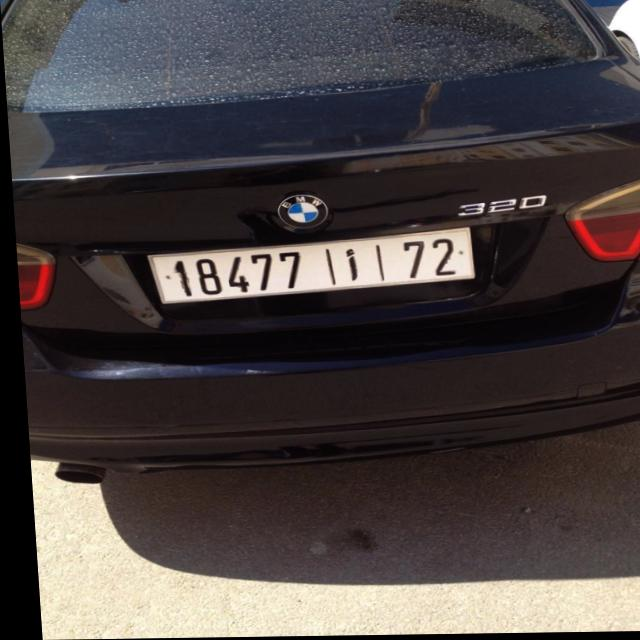License-Plate: (144, 230, 470, 305)
